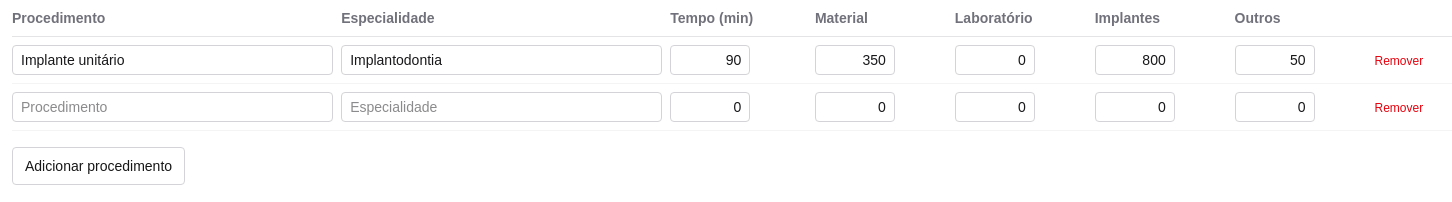
StepProcedures › removes a row when its remove button is clicked
Expected: the number of fields named "Procedimento" is 2, [12, 45, 333, 75]; [12, 92, 333, 122]
Click the 1st button "Remover". click: click(1399, 61)
box: [1374, 53, 1423, 69]
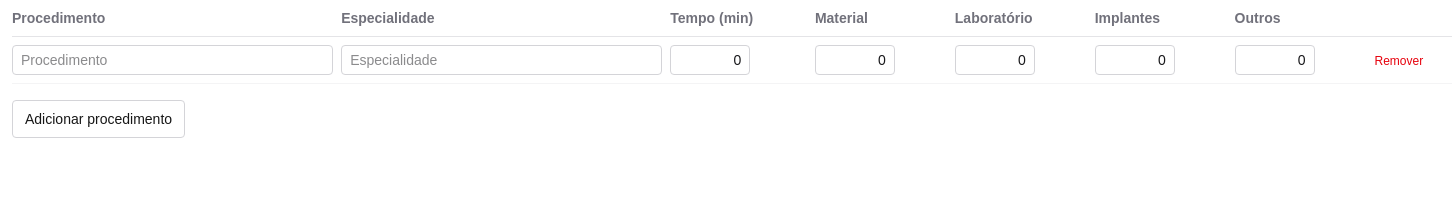
Now the number of fields labelled "Procedimento" is 1, box [12, 45, 333, 75]
